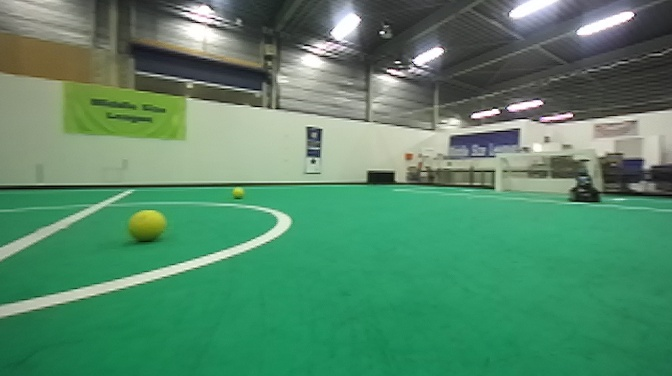ball: (124, 206, 169, 245), (231, 184, 244, 200)
goal: (492, 148, 601, 201)
robot: (565, 158, 606, 205)
